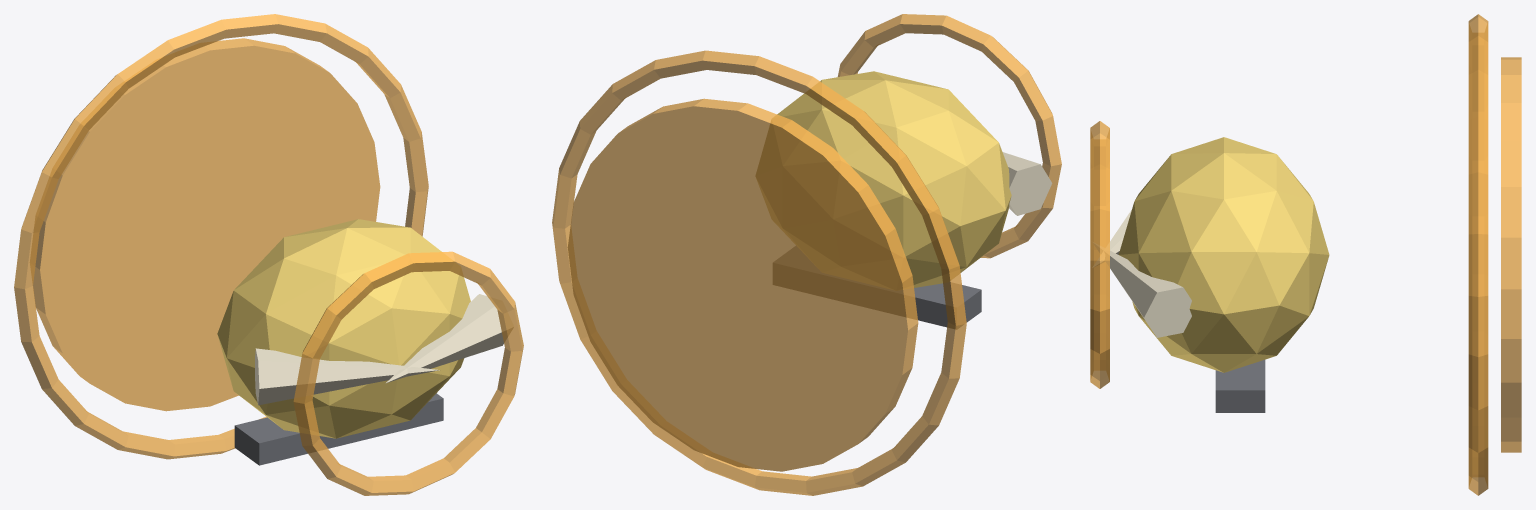
File: armor_pickup_crown_helmet_legendary.glb
3 renders of one model, left to right at view 1: azimuth 30°, elevation 25°; view 2: azimuth 150°, elevation 25°; view 3: azimuth 270°, elevation 25°, orthographic.
Visible parts, largest first — view 1: rarity_base_disc, helmet_dome, rarity_orbit_ring, crown_ring, horn_l, visor, horn_r; view 2: rarity_base_disc, helmet_dome, rarity_orbit_ring, crown_ring, visor, horn_l; view 3: helmet_dome, rarity_orbit_ring, rarity_base_disc, crown_ring, horn_r, visor.
Part boxes in pixels (x1,y1,x2,y2): rarity_base_disc: (33,38,380,411); helmet_dome: (217,219,470,438); rarity_orbit_ring: (14,14,428,459); crown_ring: (293,251,523,495); horn_l: (255,348,439,405); visor: (234,393,443,465); horn_r: (385,294,513,383); rarity_base_disc: (567,98,918,471); helmet_dome: (756,71,1011,290); rarity_orbit_ring: (552,50,966,495); crown_ring: (837,14,1061,258); visor: (773,246,981,328); horn_l: (1002,152,1052,215); helmet_dome: (1118,137,1329,372); rarity_orbit_ring: (1468,14,1488,495); rarity_base_disc: (1501,57,1521,452); crown_ring: (1090,121,1109,388); horn_r: (1093,243,1191,337); visor: (1215,359,1265,412).
Bounding box in the file's own units: 1.17 × 1.17 × 1.04.
